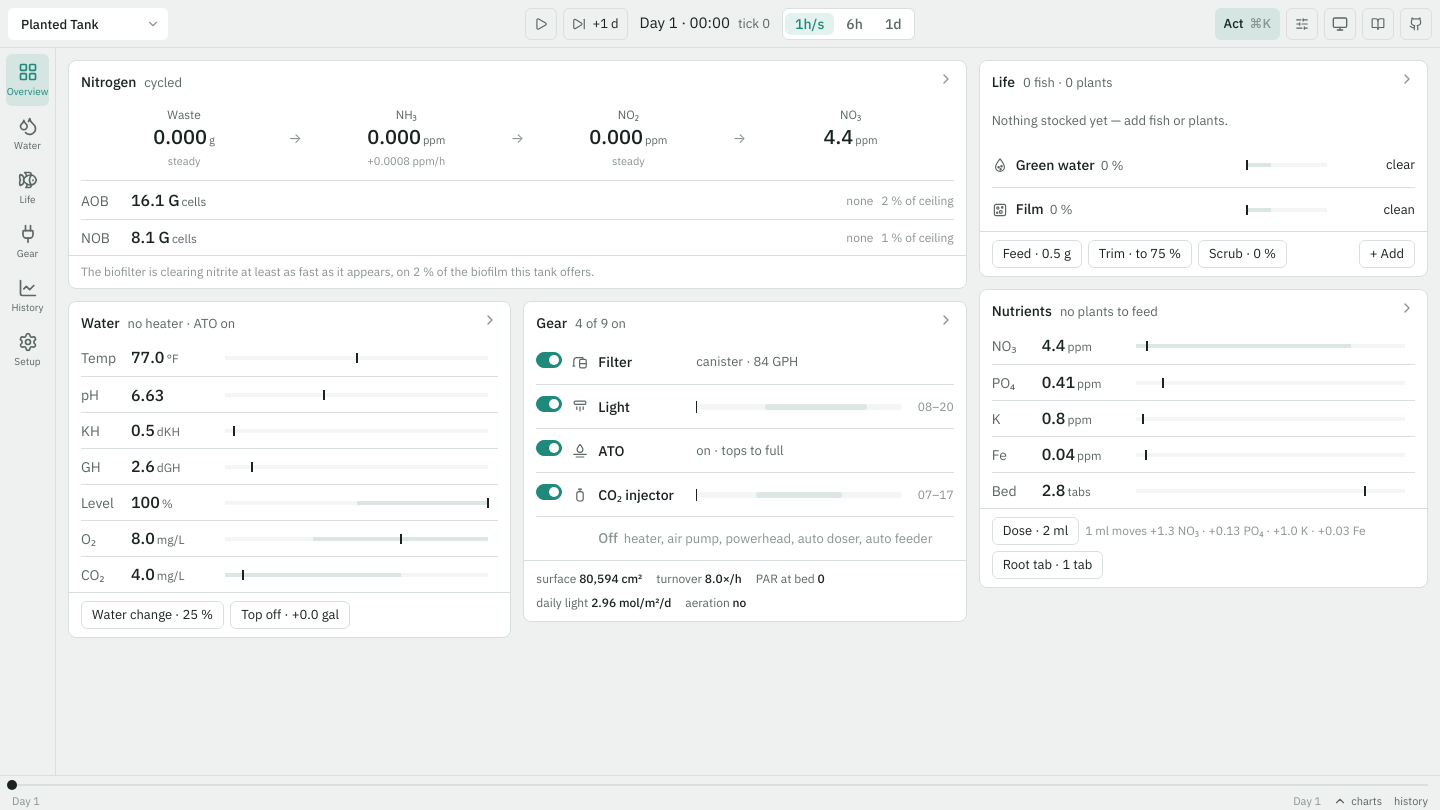
Test: the Act palette › filters as the reader types, and Enter opens the one match
Press k
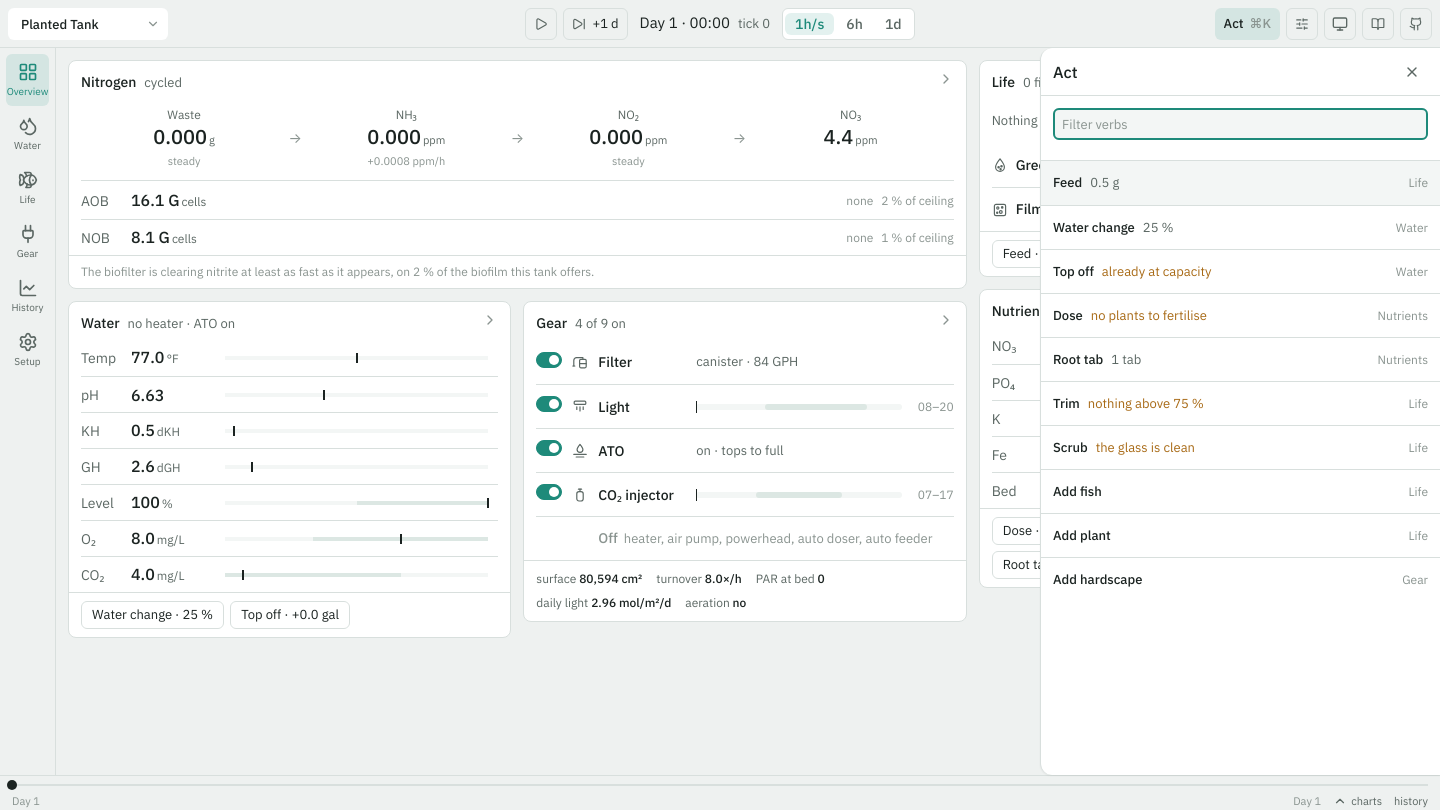
In the dropdown with placeholder "Filter verbs": (1240,124) [1053, 108, 1428, 140], type "top"
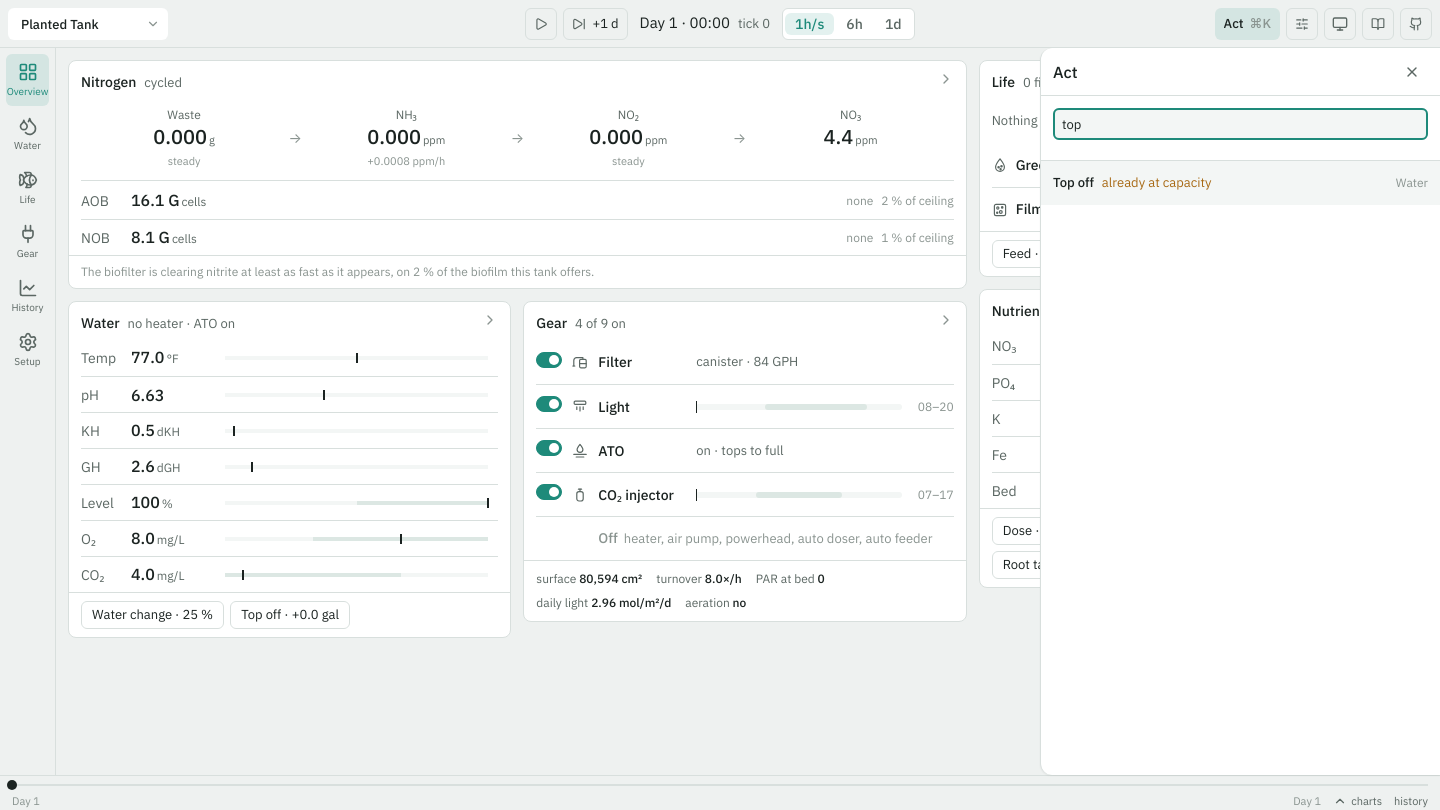
Check: the number of options "Top off already at capacity Water" is 1, box [1041, 161, 1439, 205]
Press Enter in the dropdown named "Filter verbs", box [1053, 108, 1428, 140]
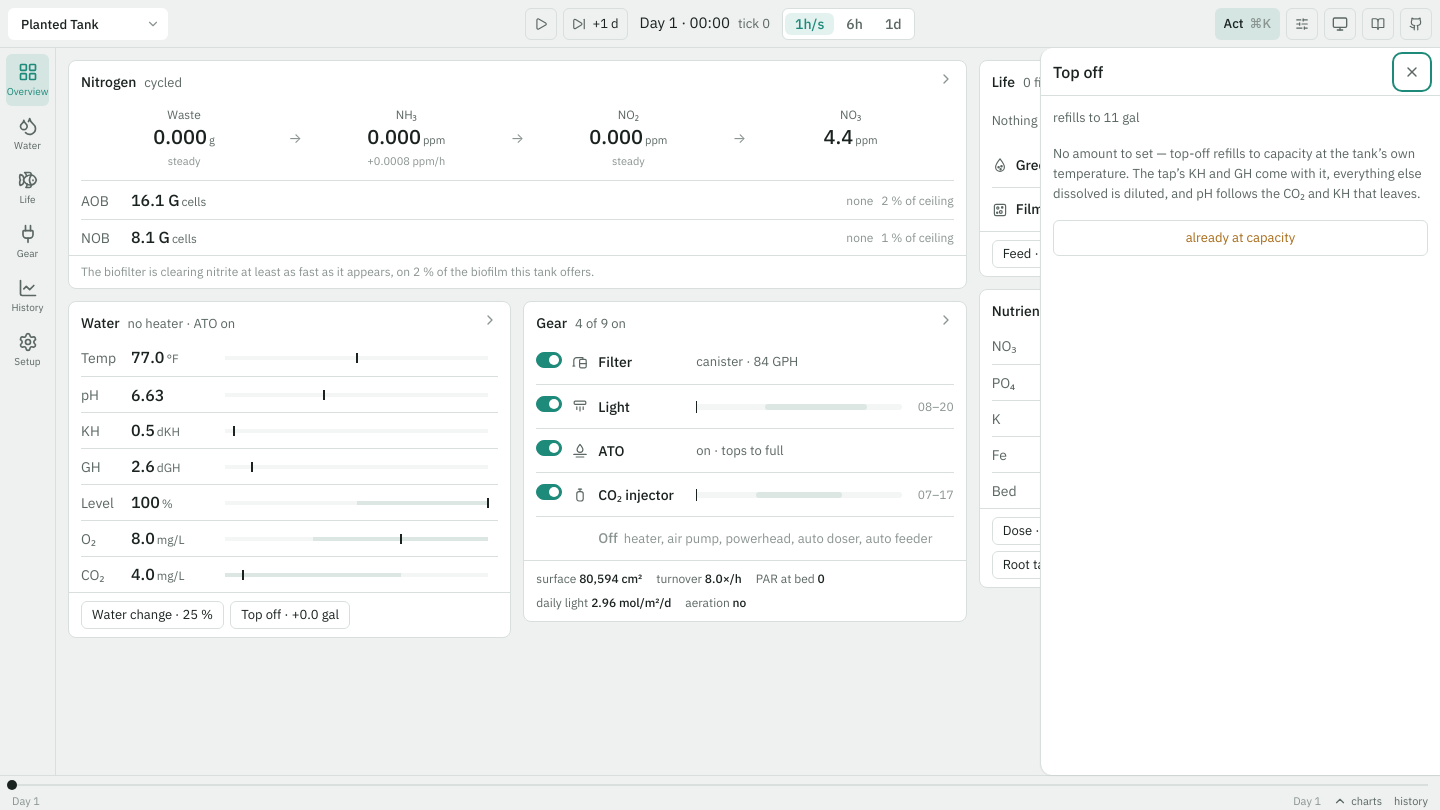
Check: the dialog "Top off" is shown, box [1040, 48, 1439, 775]
Check: the dialog "Act Top off already at capacity Water" is gone
